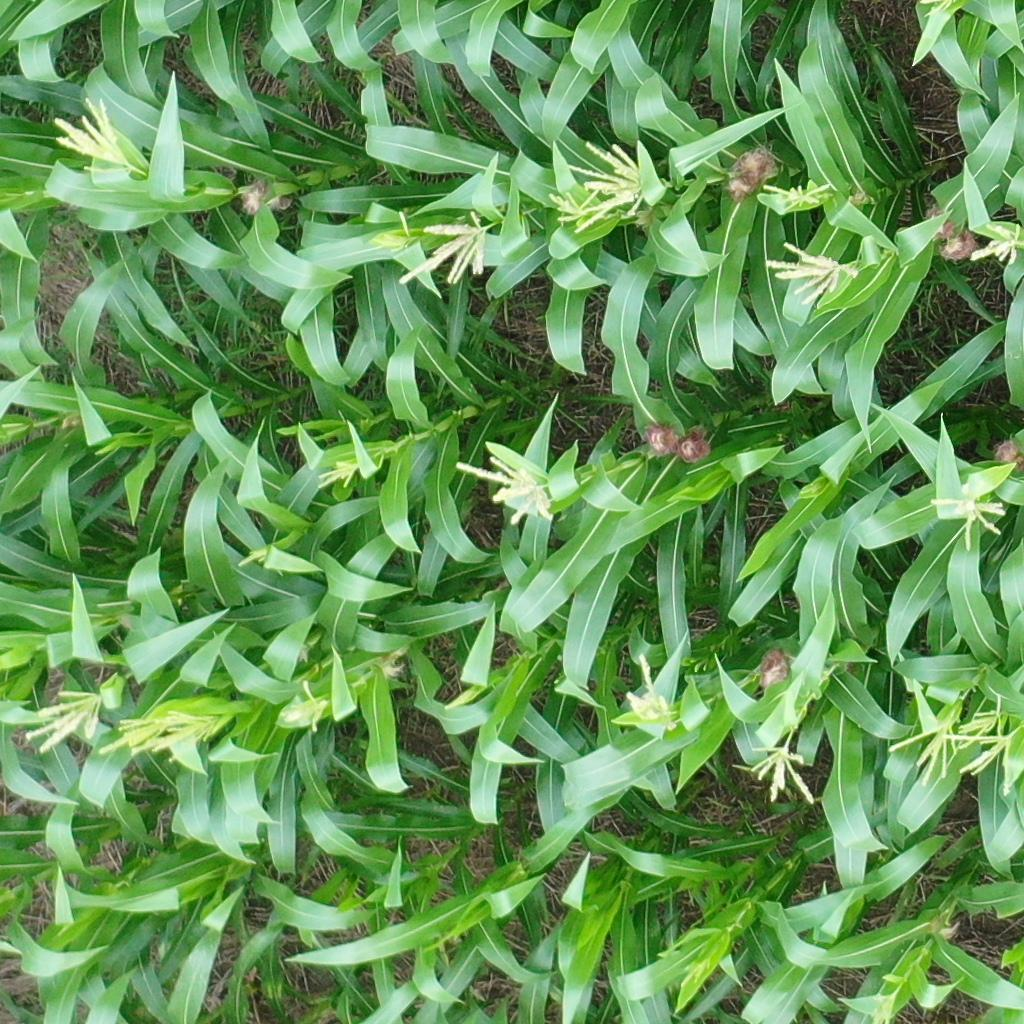Tassel: (540, 138, 661, 234), (45, 97, 154, 188), (454, 451, 563, 529), (397, 214, 496, 291), (764, 237, 861, 308), (880, 698, 958, 781), (926, 473, 1007, 551), (17, 682, 104, 754), (941, 724, 1019, 799), (750, 737, 821, 808), (619, 654, 676, 725), (277, 676, 338, 734), (97, 713, 171, 758), (963, 219, 1024, 273), (152, 712, 225, 753), (953, 705, 1006, 749), (760, 183, 833, 213), (313, 460, 365, 491), (675, 949, 711, 989), (363, 231, 411, 257), (235, 545, 272, 565), (919, 1, 959, 19), (798, 477, 828, 497)
